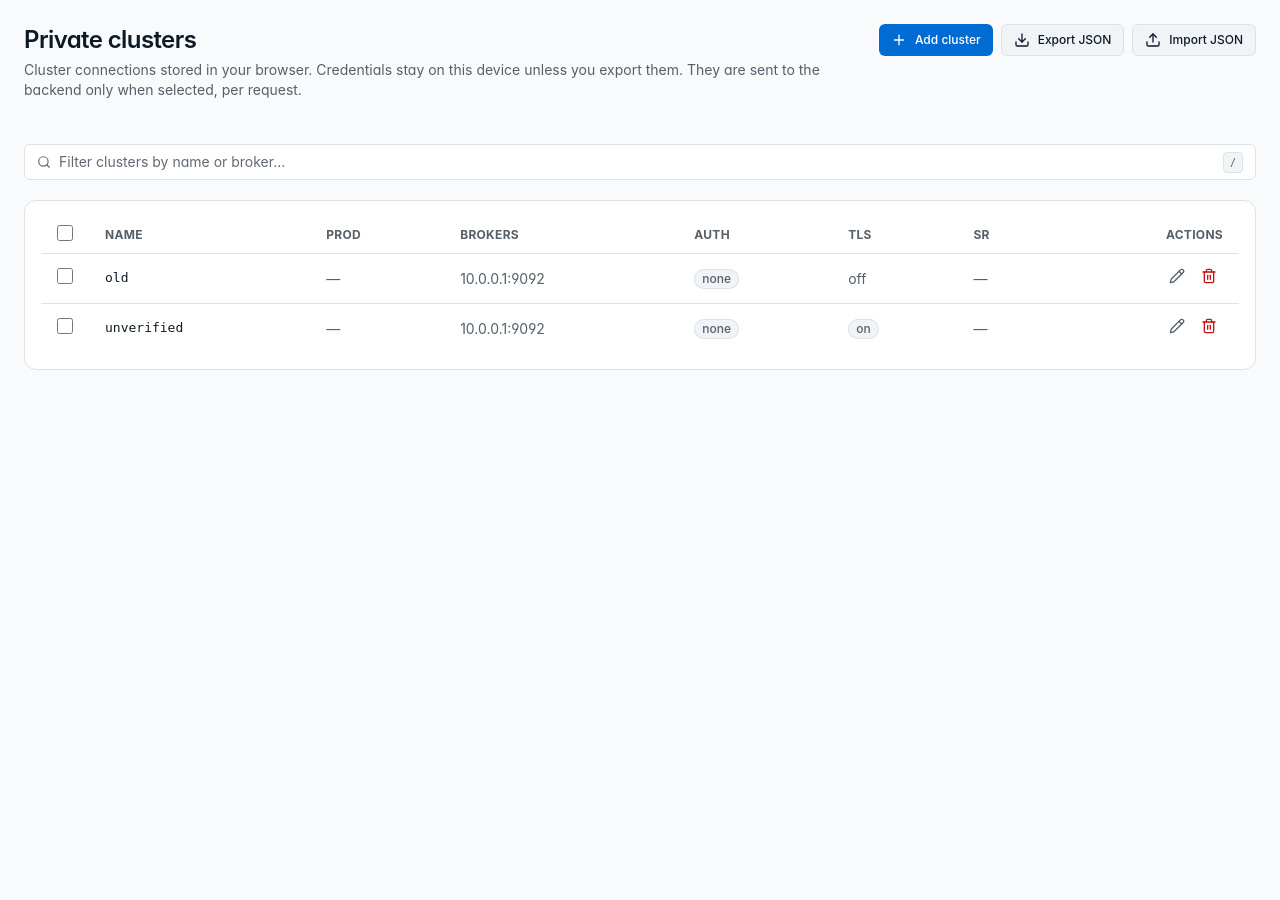
Scenario: private cluster transport security › keeps the stored TLS settings of existing clusters and warns about them
Click the button named "Edit" in the row of "old" at (1177, 276), box [1163,262,1191,290]
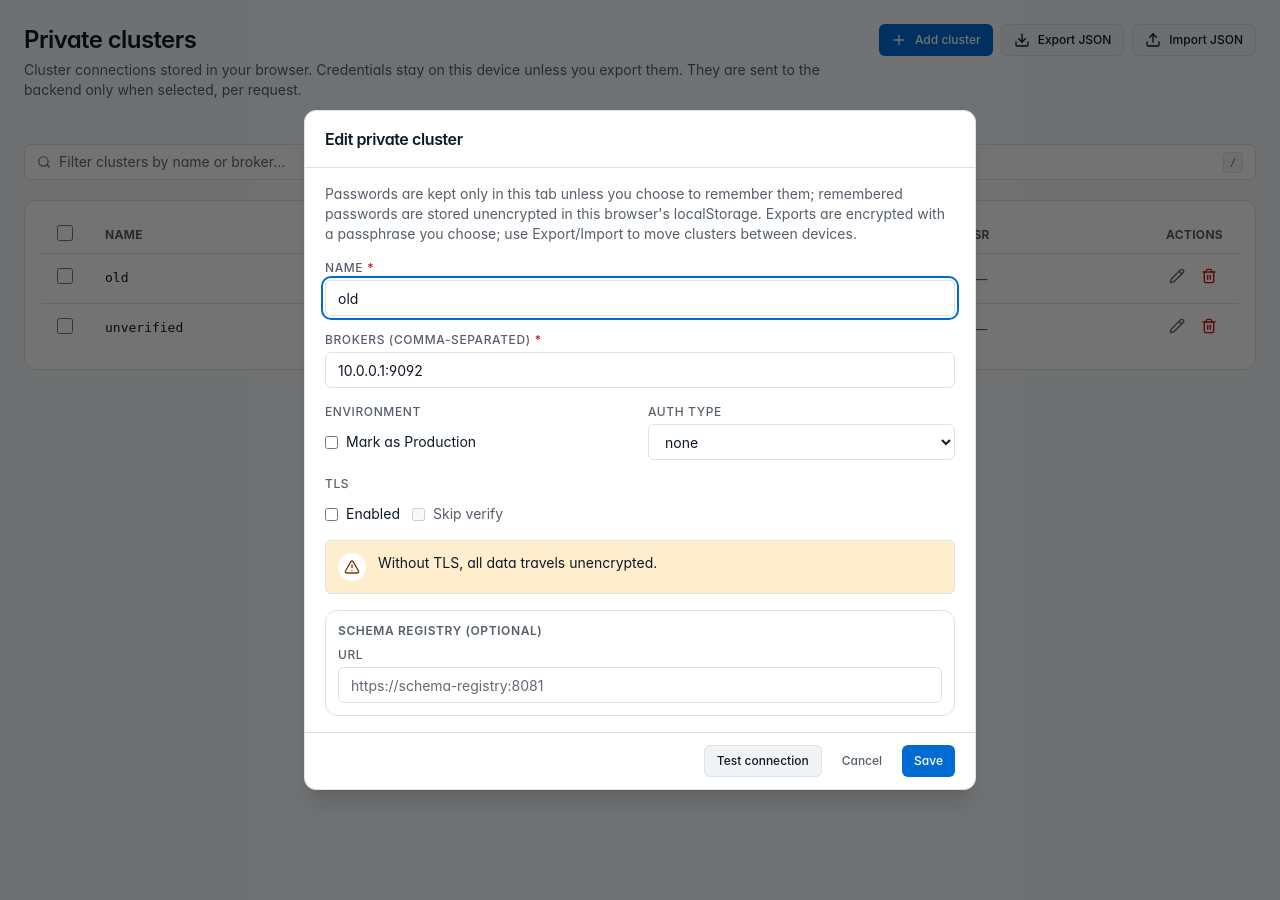
Check: the checkbox labelled "Enabled" is not checked, box [325,508,338,520]
Check: the message reads "Without TLS, all data travels unencrypted.", box [378,554,657,571]
Check: the button "Save" is enabled, box [902,745,955,777]
Click the button "Cancel" at (862, 761), box [830,745,894,777]
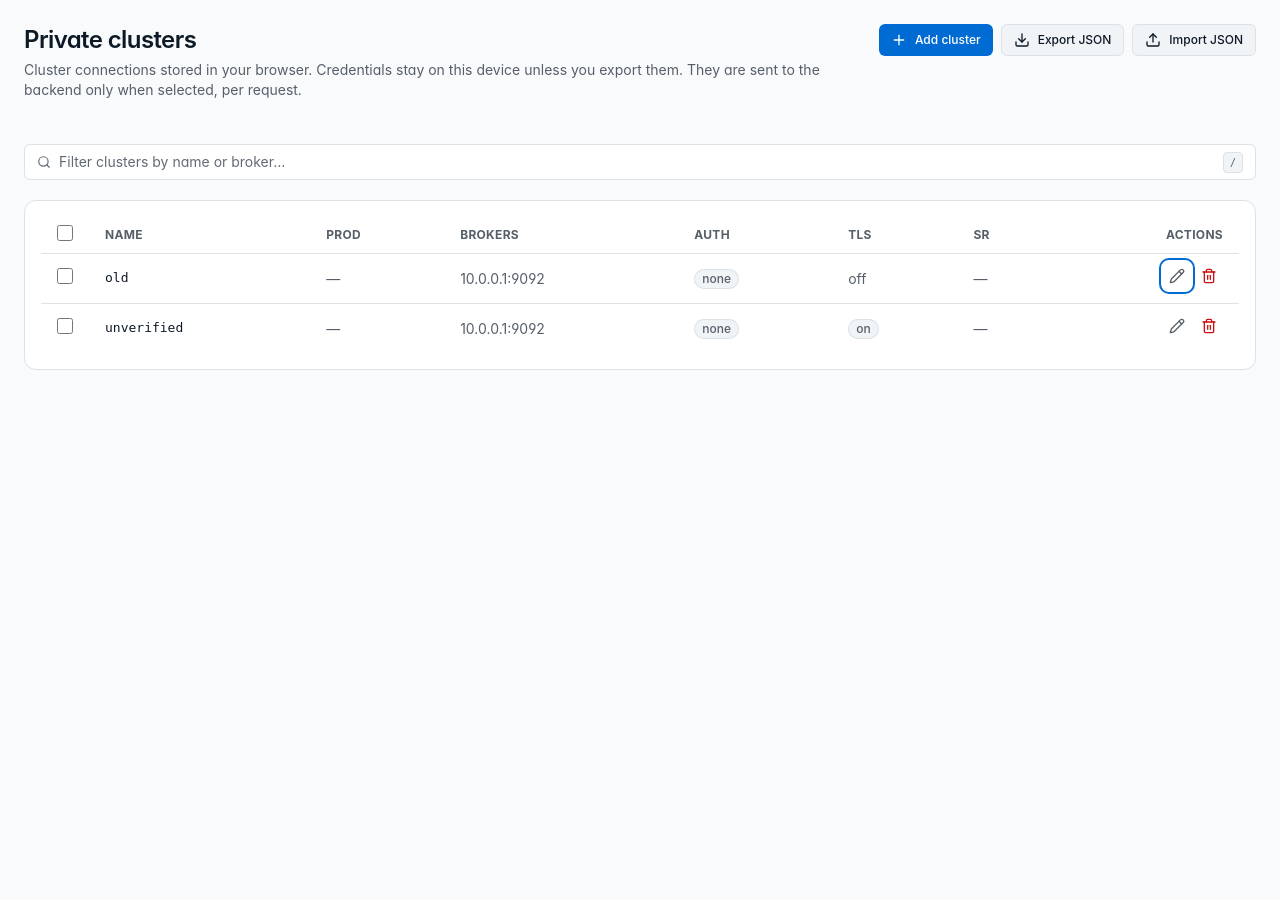
Click the button named "Edit" in the row of "unverified" at (1177, 326), box [1163,312,1191,340]
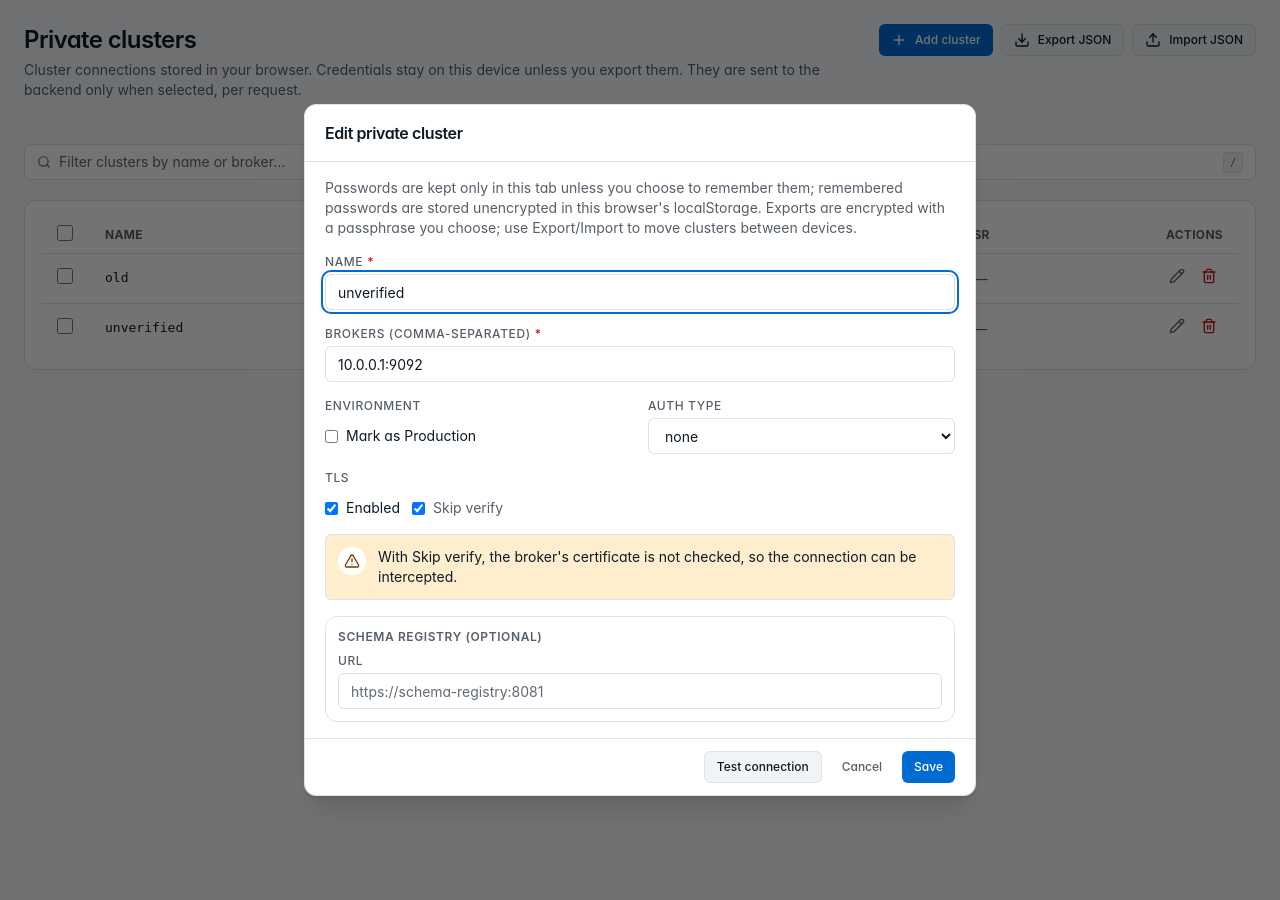
Check: the checkbox labelled "Enabled" is checked, box [325,502,338,514]
Check: the checkbox labelled "Skip verify" is checked, box [412,502,425,514]
Check: the message shows "With Skip verify, the broker's certificate is not checked, so the connection can be intercepted.", box [378,548,916,585]
